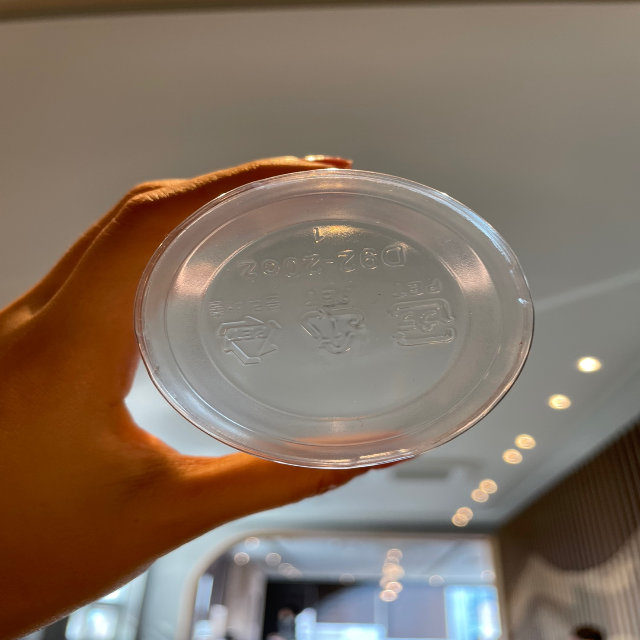pet: (199, 288, 289, 370), (382, 274, 467, 353), (296, 279, 374, 364)
